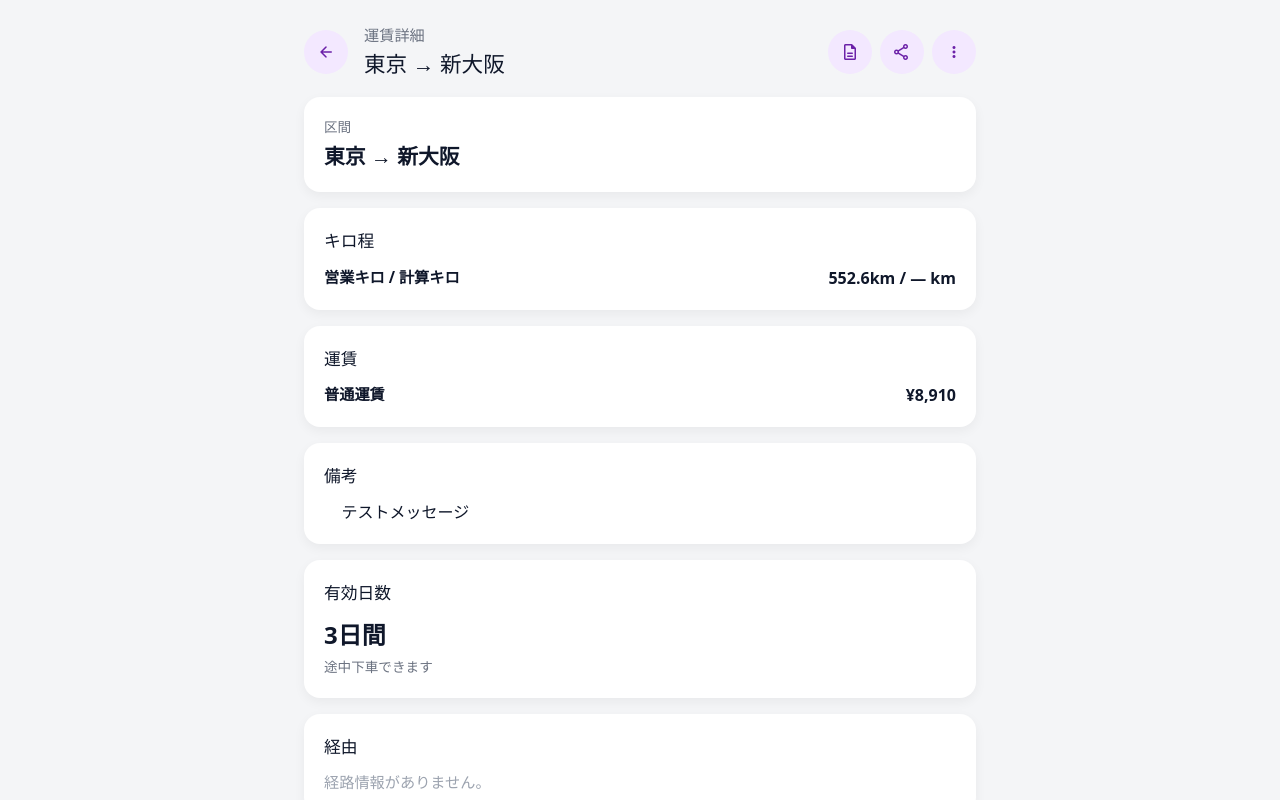
Test: /detail/+page.svelte › renders route summary when data is provided
Expected: the text "運賃詳細" is shown, [364,25,425,45]
Expected: the text "¥8,910" is shown, [906,383,956,407]
Click the button named "結果エクスポート".
click(850, 52)  # box [828,30,872,74]
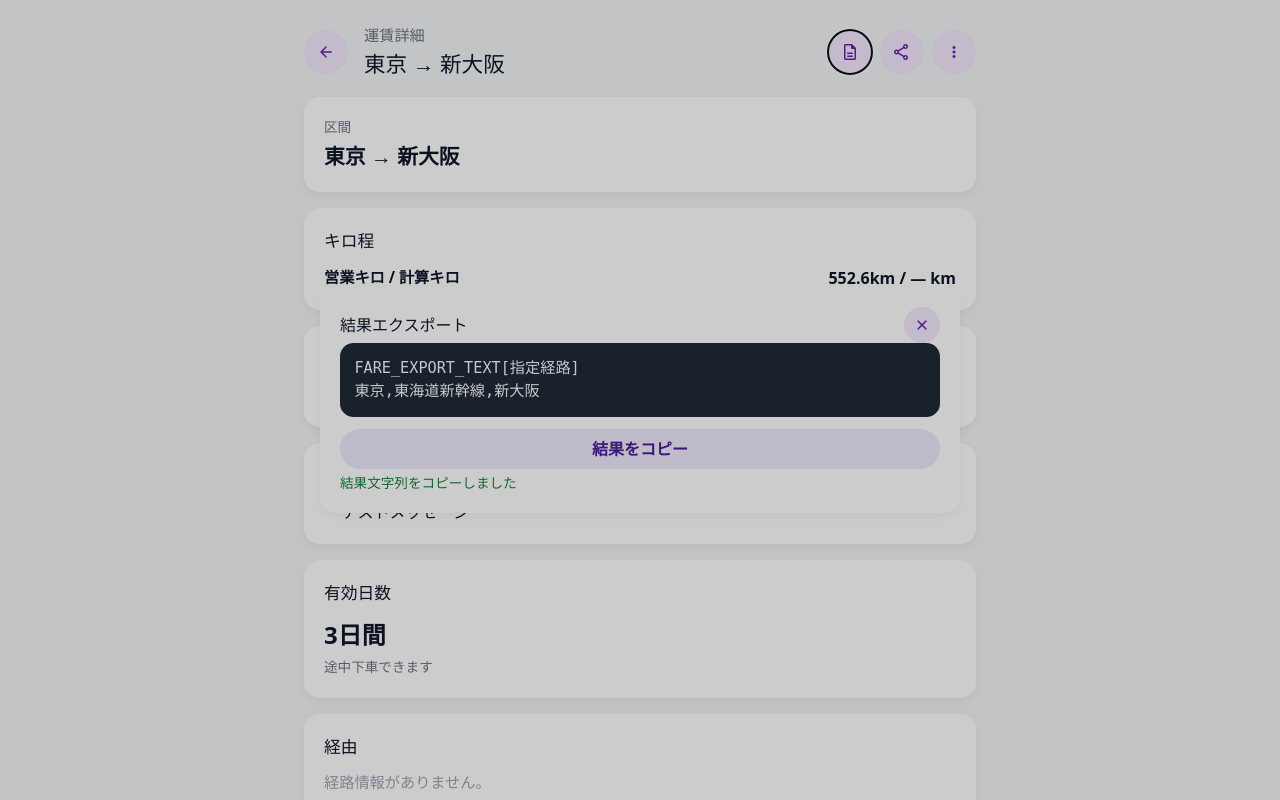
Expected: the text with test id "fare-export-text" reads "FARE_EXPORT_TEXT[指定経路] 東京,東海道新幹線,新大阪", [354,359,580,400]
